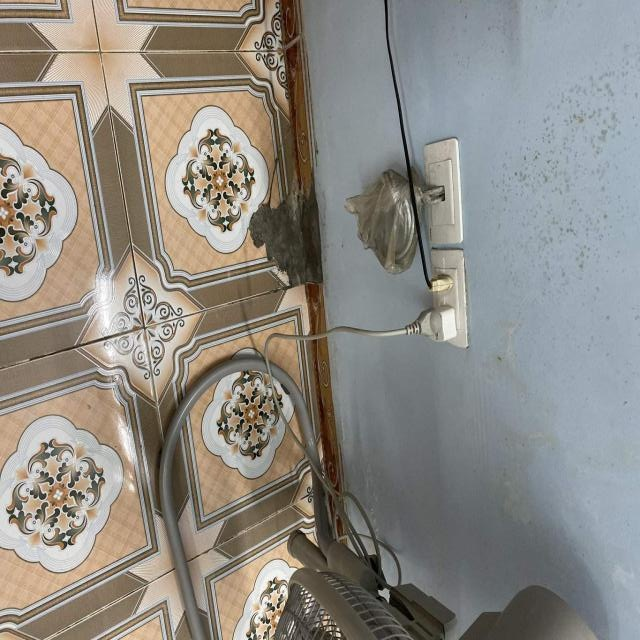outlet: (423, 137, 464, 244), (430, 248, 470, 348)
